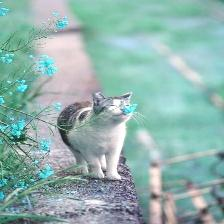kedo: (57, 91, 134, 181)
